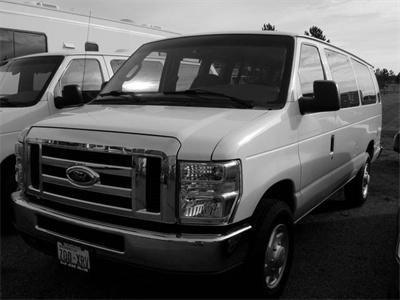car: (12, 33, 385, 297)
